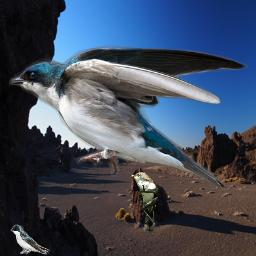Cuckoo: (129, 172, 159, 234)
Swallow: (9, 44, 248, 191), (10, 224, 50, 255)
